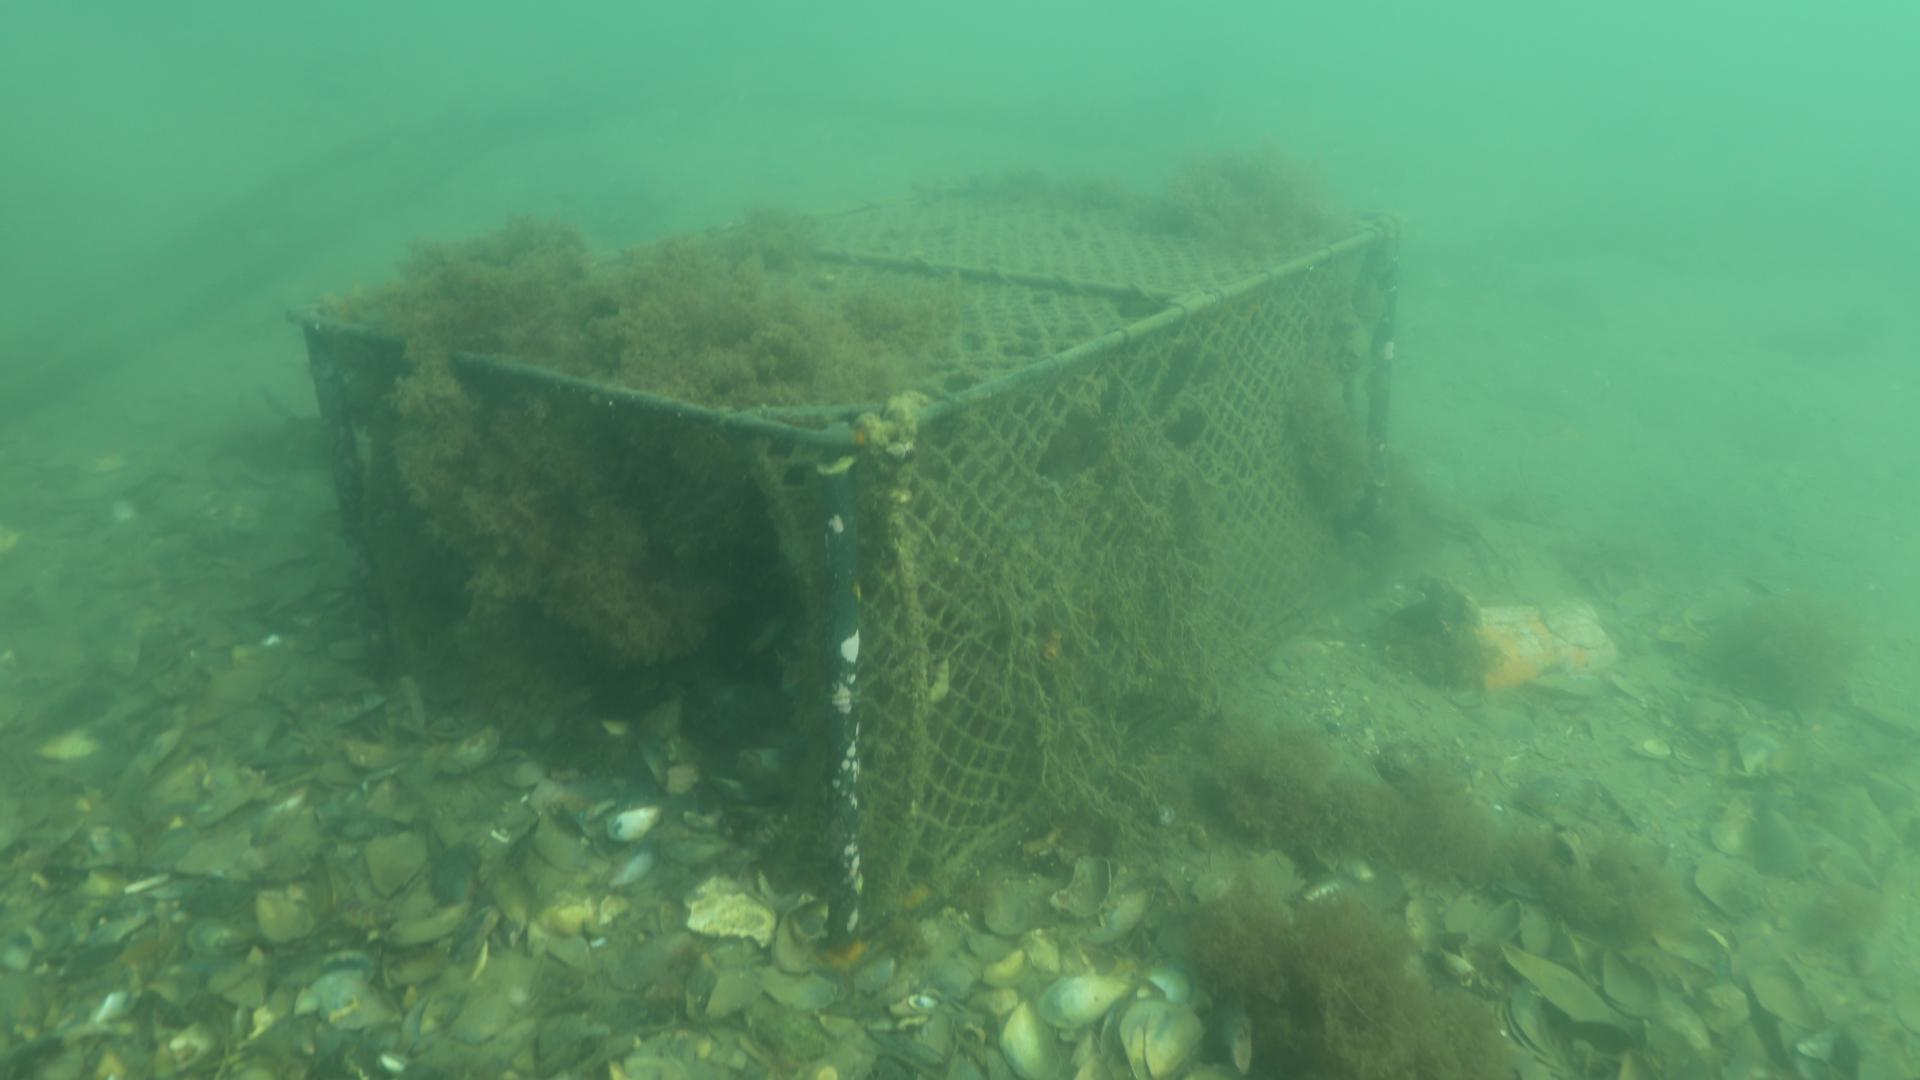rectangular fish trap: (295, 196, 1400, 963)
